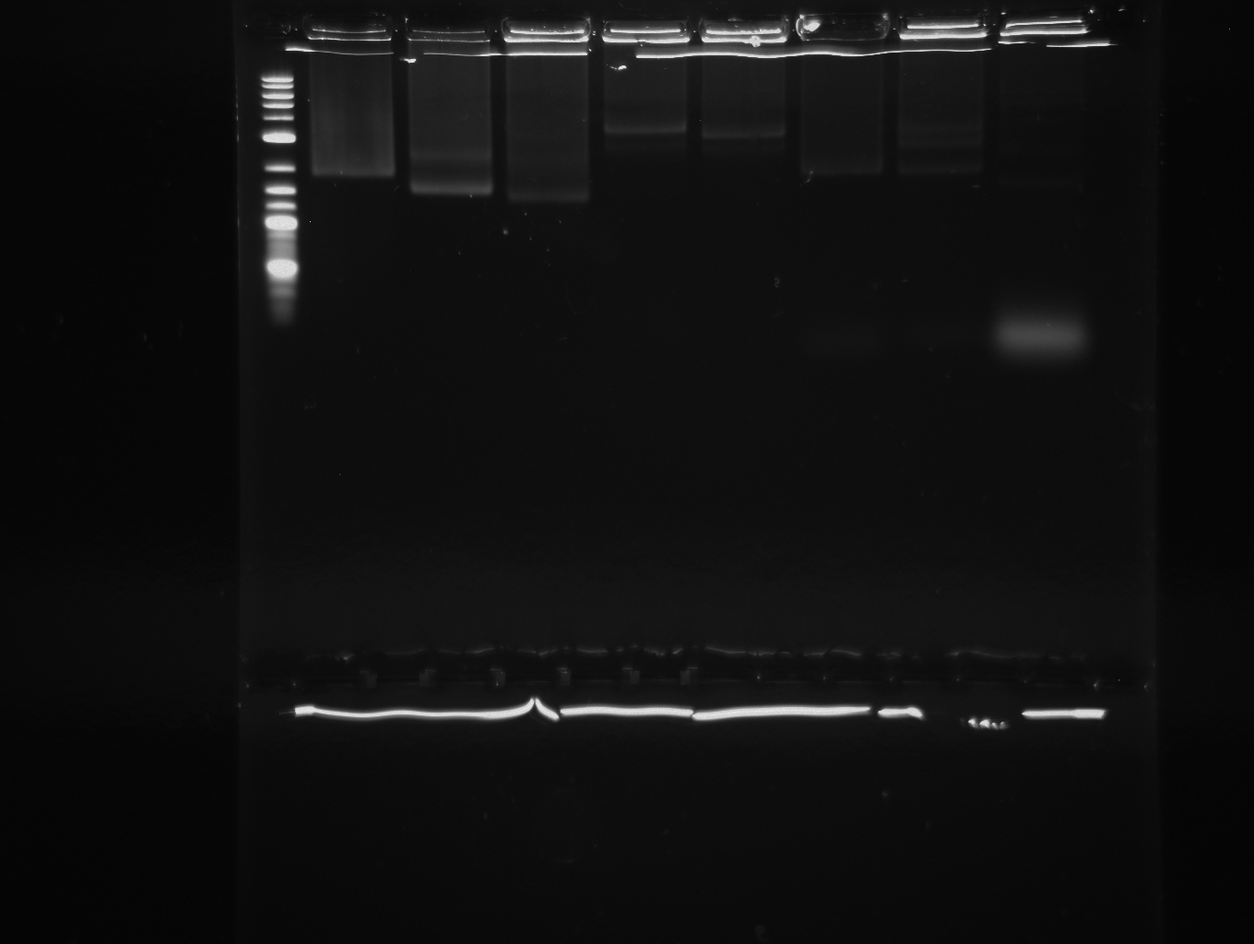Lane: (1003, 5, 1093, 944), (901, 16, 992, 908), (592, 14, 681, 925), (311, 18, 393, 944), (410, 21, 492, 944), (701, 18, 783, 938), (505, 23, 582, 944), (793, 0, 869, 933)
ladder: (259, 14, 300, 916)
